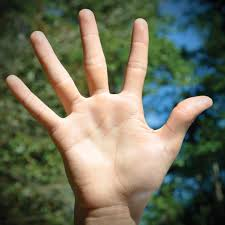palm: (4, 5, 216, 217)
